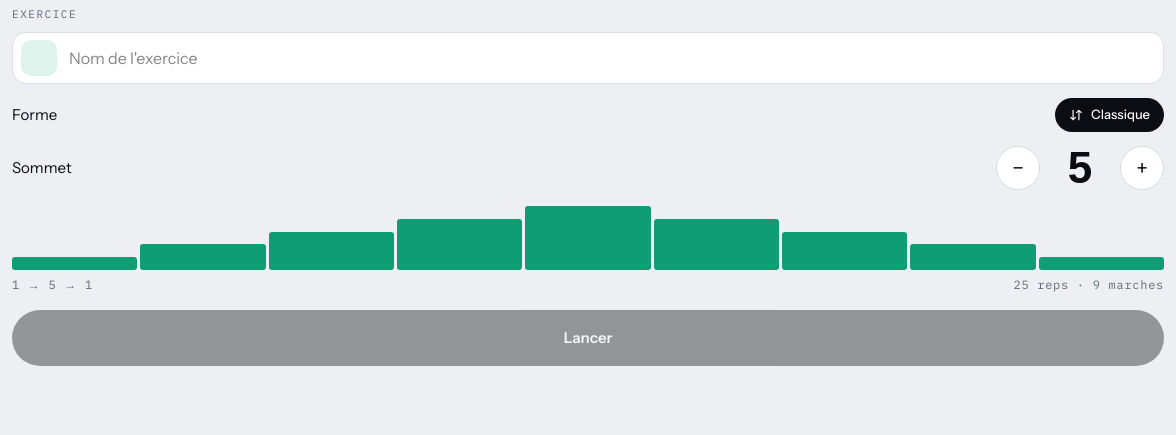
Test: PyramidLauncher › ignores accents and case while narrowing
Type "elev" into the dropdown with placeholder "Nom de l'exercice" at (612, 58), box [69,33,1155,83]
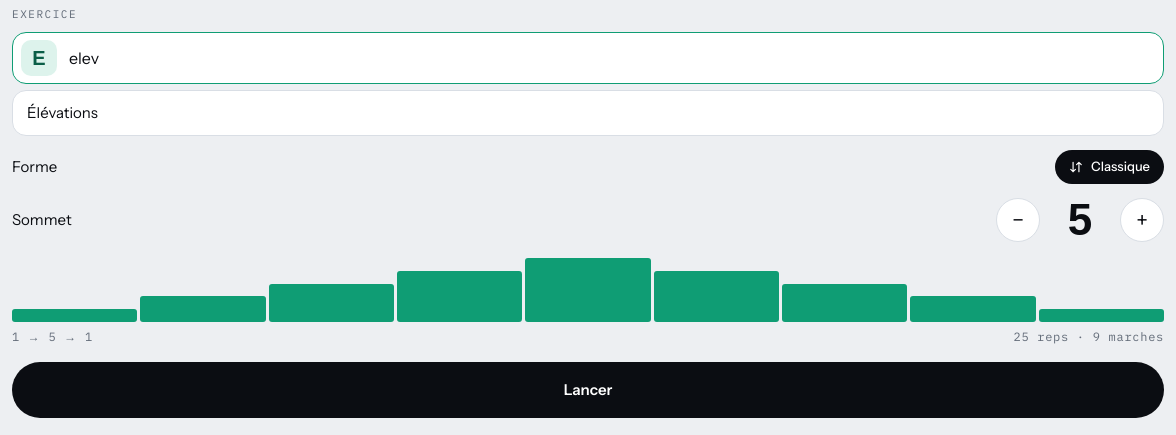
Check: the options read "Élévations", in this order, box [13,91,1163,135]
